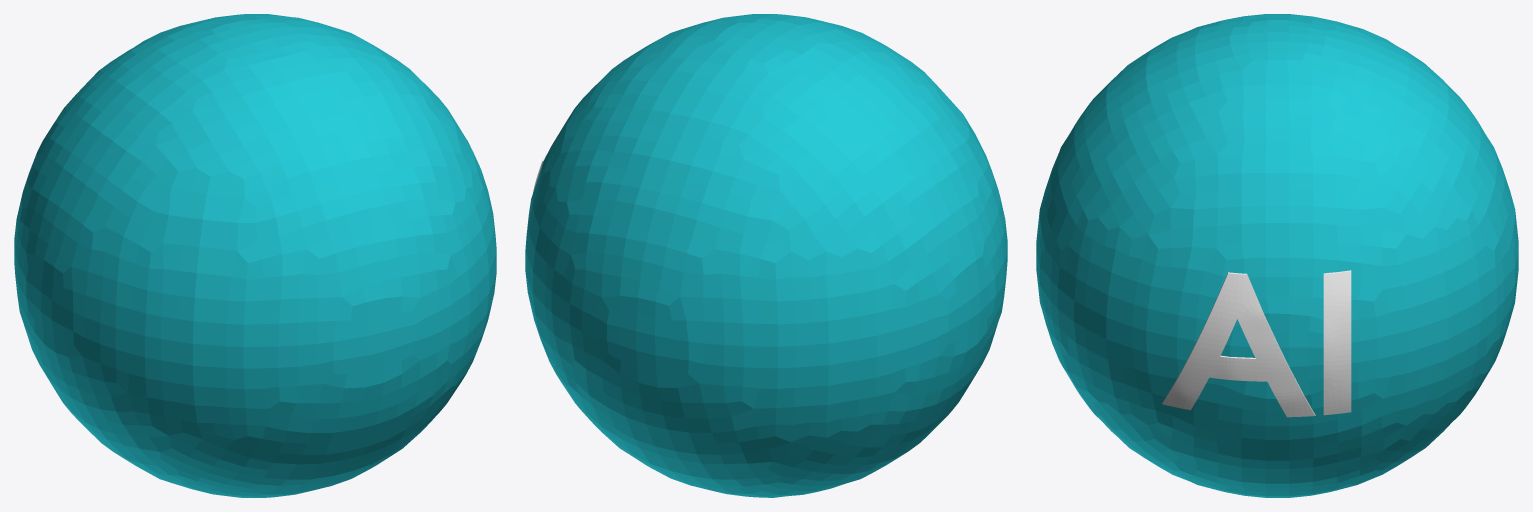
Rendered from AIBlue.glb.
3 views of the same model, side by side, from view 1: azimuth 30°, elevation 25°; view 2: azimuth 150°, elevation 25°; view 3: azimuth 270°, elevation 25° (orthographic).
Parts seen in each view (by area): view 1: Сфера; view 2: Сфера; view 3: Сфера.
Boxes of the visible parts, left/top/right/bottom form: Сфера: left=14, top=14, right=496, bottom=497; Сфера: left=525, top=14, right=1007, bottom=497; Сфера: left=1036, top=14, right=1518, bottom=497.
Bounding box in the file's own units: 12.07 × 12.04 × 12.01.
